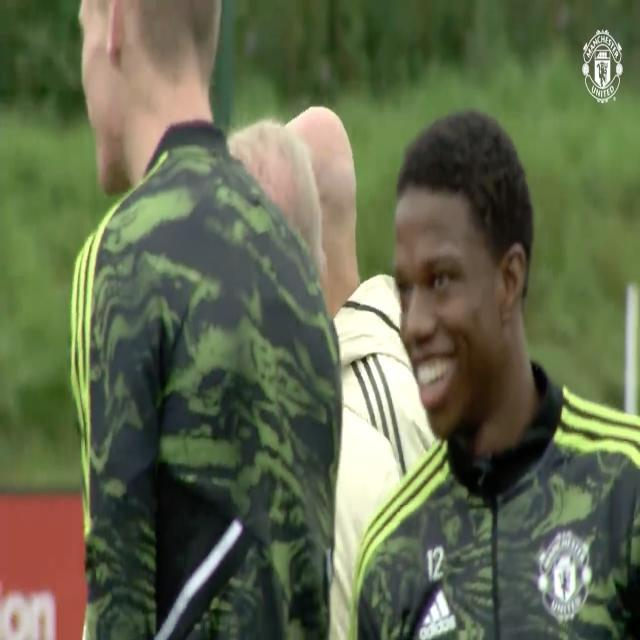Adidas: (419, 588, 457, 640)
